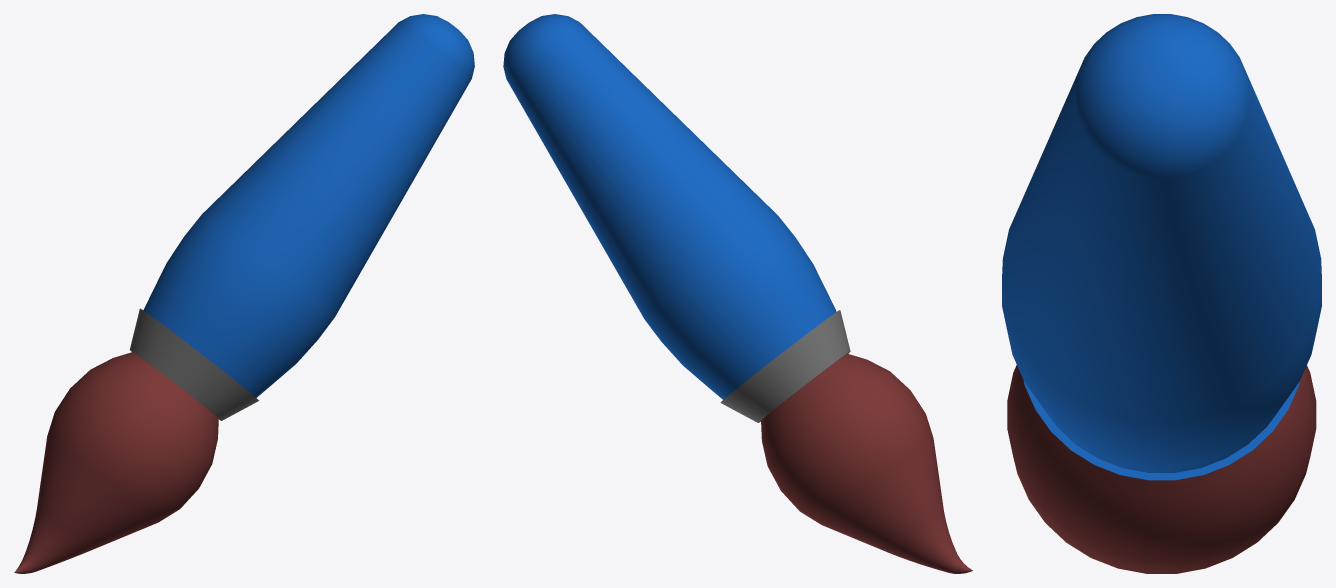
Rendered from paintbrush.glb.
3 views of the same model, side by side, from view 1: azimuth 30°, elevation 25°; view 2: azimuth 150°, elevation 25°; view 3: azimuth 270°, elevation 25° (orthographic). The views are drawn at different scales.
Parts seen in each view (by area): view 1: Circle.2563; view 2: Circle.2563; view 3: Circle.2563.
Boxes of the visible parts, <box> form: Circle.2563: <box>14,14,474,573</box>; Circle.2563: <box>503,14,972,573</box>; Circle.2563: <box>1002,14,1321,573</box>.
Bounding box in the file's own units: 2.1 × 1.99 × 0.6681.
Materials: 1 (1 with a texture image).
